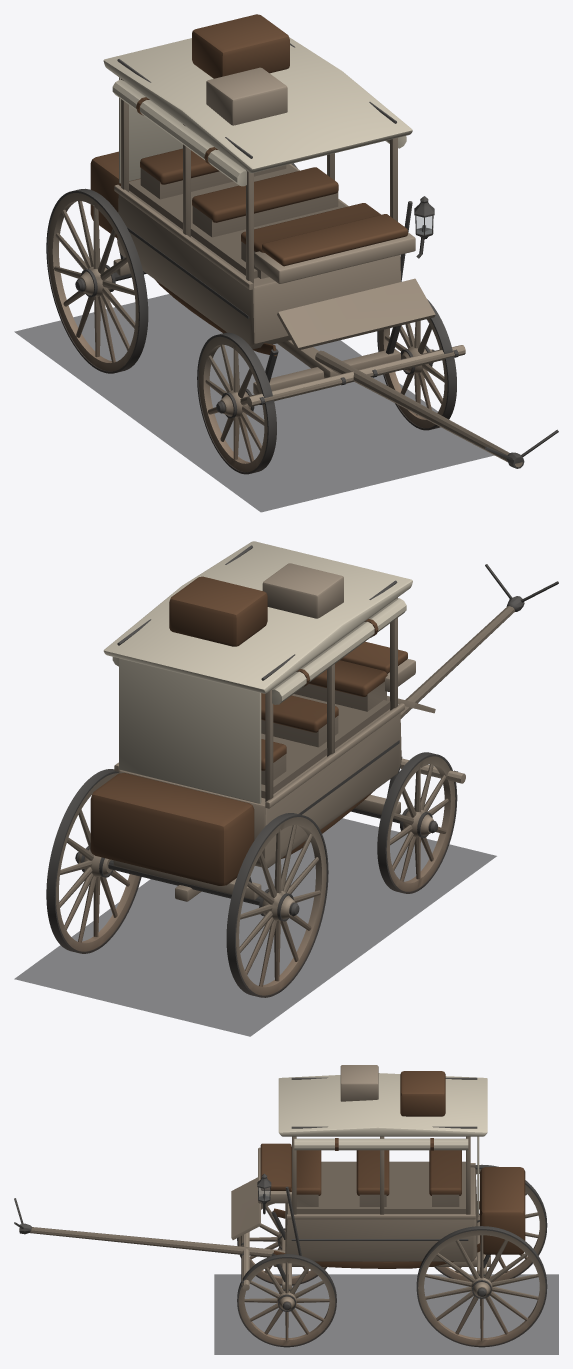
File: visitor_common_pair.glb
3 renders of one model, top to bottom at view 1: azimuth 30°, elevation 25°; view 2: azimuth 150°, elevation 25°; view 3: azimuth 270°, elevation 25°, orthographic. The views are drawn at different scales.
Visible parts, largest first — view 1: visitor_common_pair; view 2: visitor_common_pair; view 3: visitor_common_pair.
Boxes of the visible parts, x1,y1,x2,y2 form: visitor_common_pair: (14, 14, 558, 512); visitor_common_pair: (14, 541, 558, 1036); visitor_common_pair: (14, 1065, 558, 1354).
Size of the model in its own units: 2.1 by 2.89 by 6.01.
